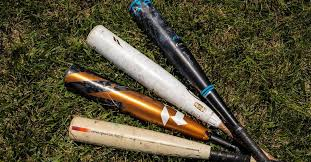baseball bat: (126, 1, 269, 162), (85, 24, 235, 142), (63, 65, 252, 156), (69, 114, 252, 162)
